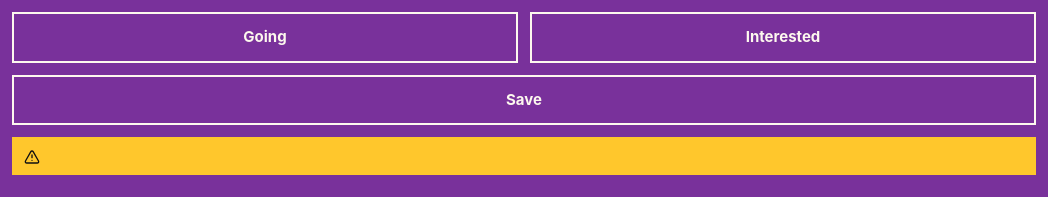
Test case: RsvpButtons › switches back and explains when the RSVP does not save
The width and height of the screenshot is (1048, 197).
Click the button "Interested". click: (783, 37)
box: [530,12,1036,62]
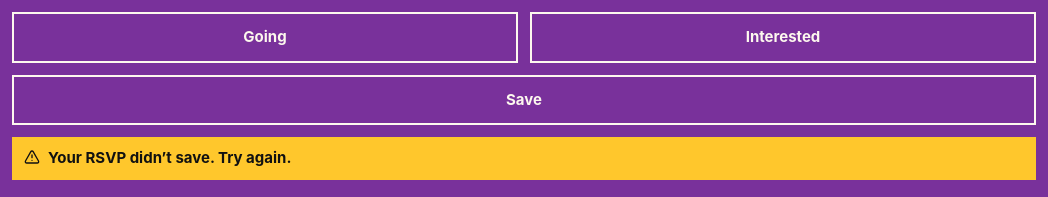
Now the message shows "Your RSVP didn’t save", box [48,148,291,167]
